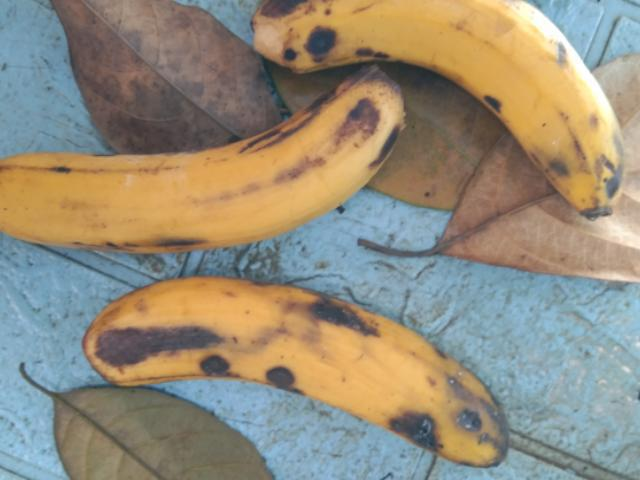overripe: (65, 263, 525, 479), (245, 0, 626, 222)
ripe: (0, 105, 407, 279)
